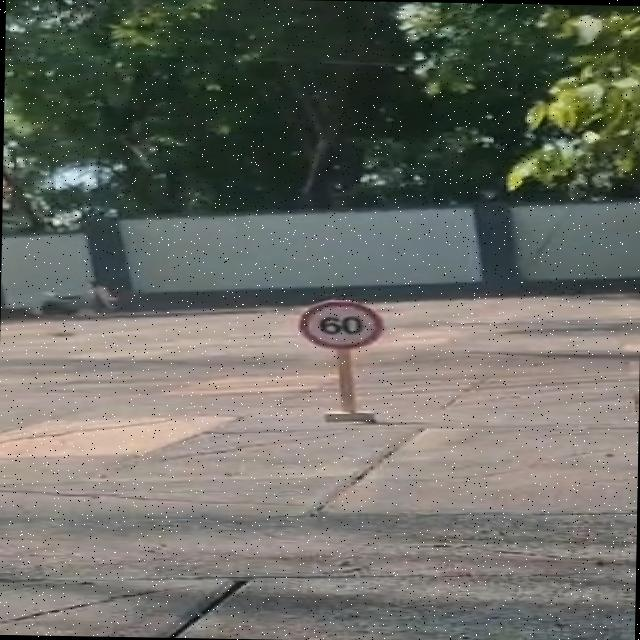Speed60: (286, 294, 402, 362)
